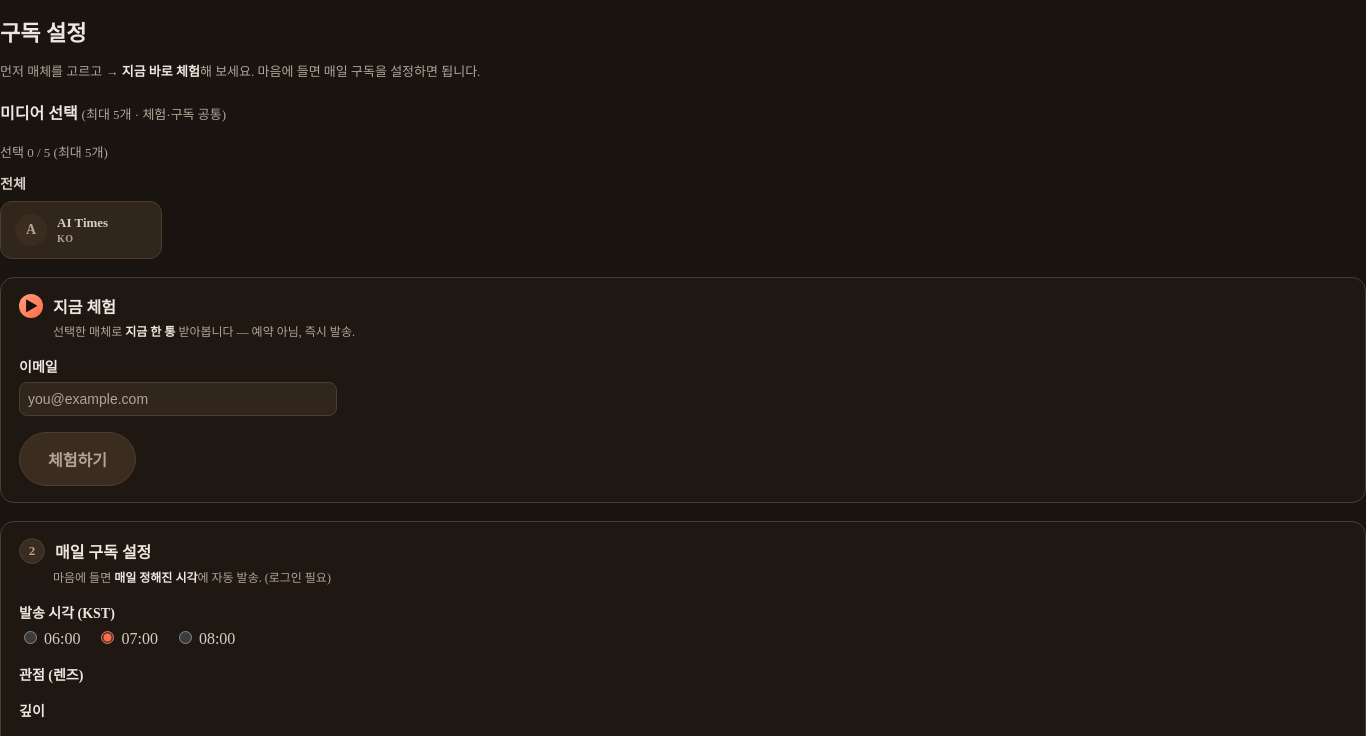
Test case: 체험하기 › enables 체험하기 after email + source, posts trial, shows verification_pending in ProgressModal
Click the checkbox labelled "AI Times".
click(62, 230)  # box x1=15 y1=214 x2=108 y2=246
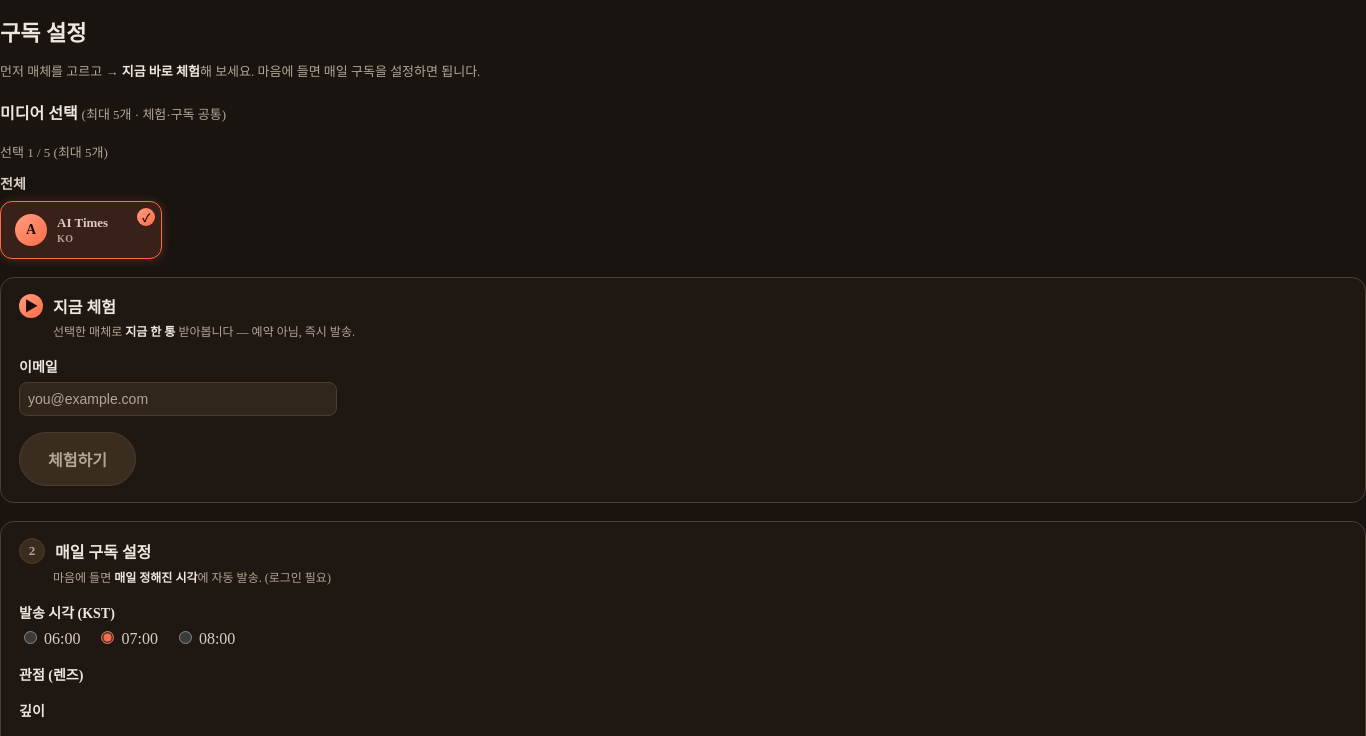
Type "u@x.com" into the field with placeholder "you@example.com".
click(178, 399); type("u@x.com")  # box x1=19 y1=382 x2=337 y2=416
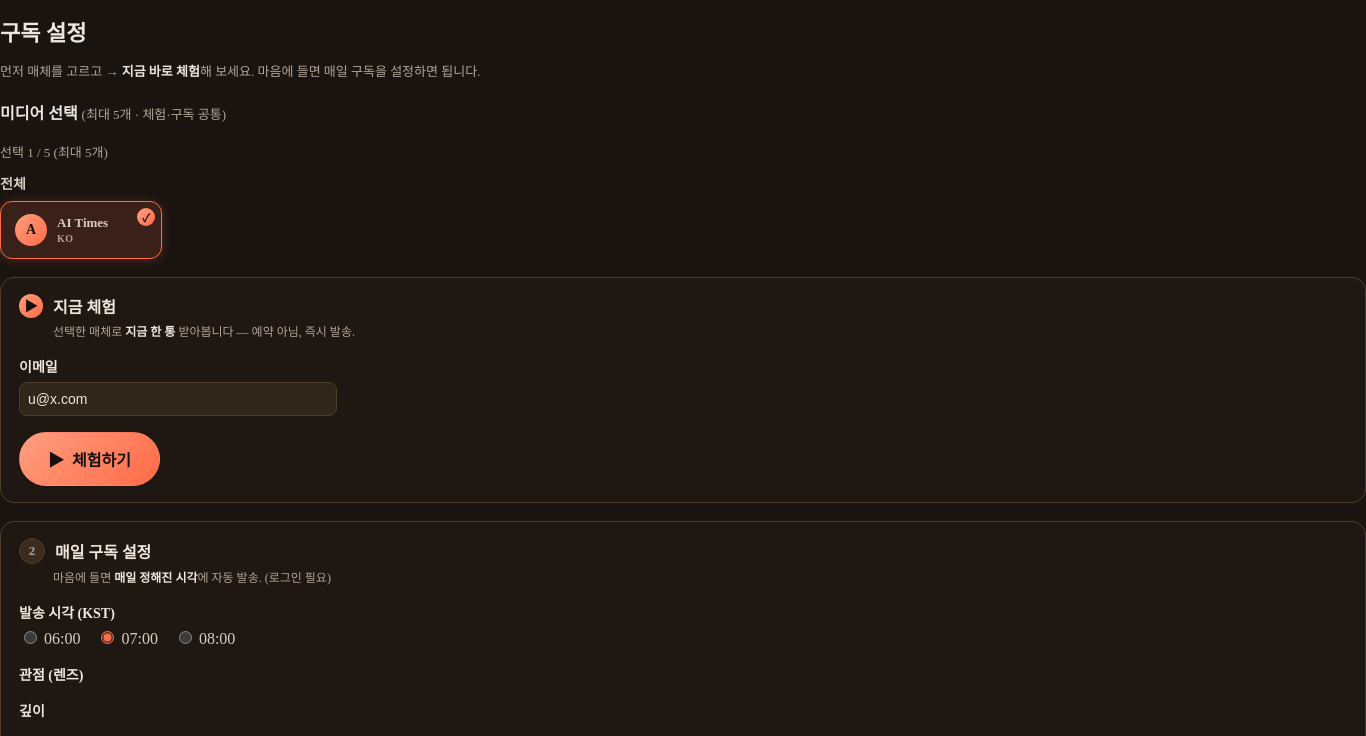
Check: the button "▶ 체험하기" is enabled
Note: 클릭 → postTrial awaited
Click the button "▶ 체험하기".
click(89, 459)  # box x1=19 y1=432 x2=160 y2=486
Wait 3000 ms
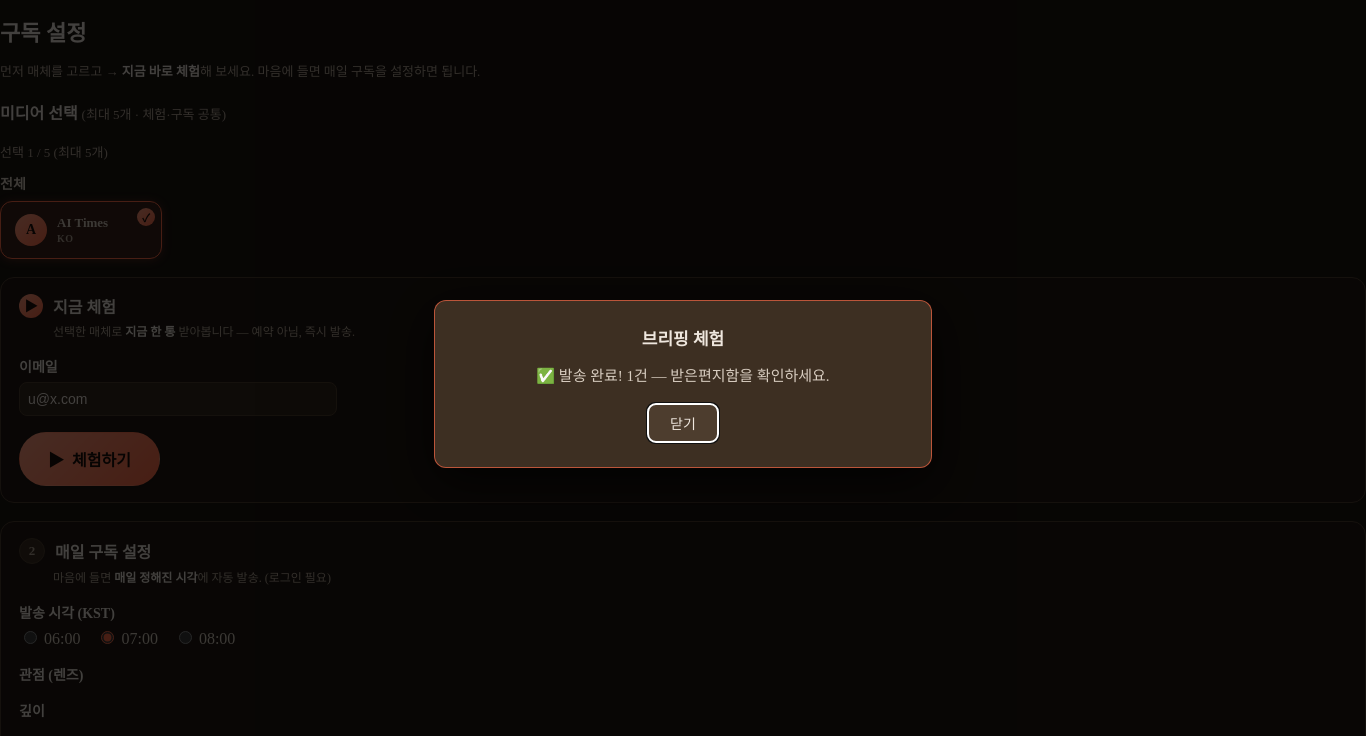
Check: the dialog is shown, box x1=434 y1=300 x2=932 y2=468
Check: the text "확인 메일" is shown, box x1=536 y1=364 x2=830 y2=385
